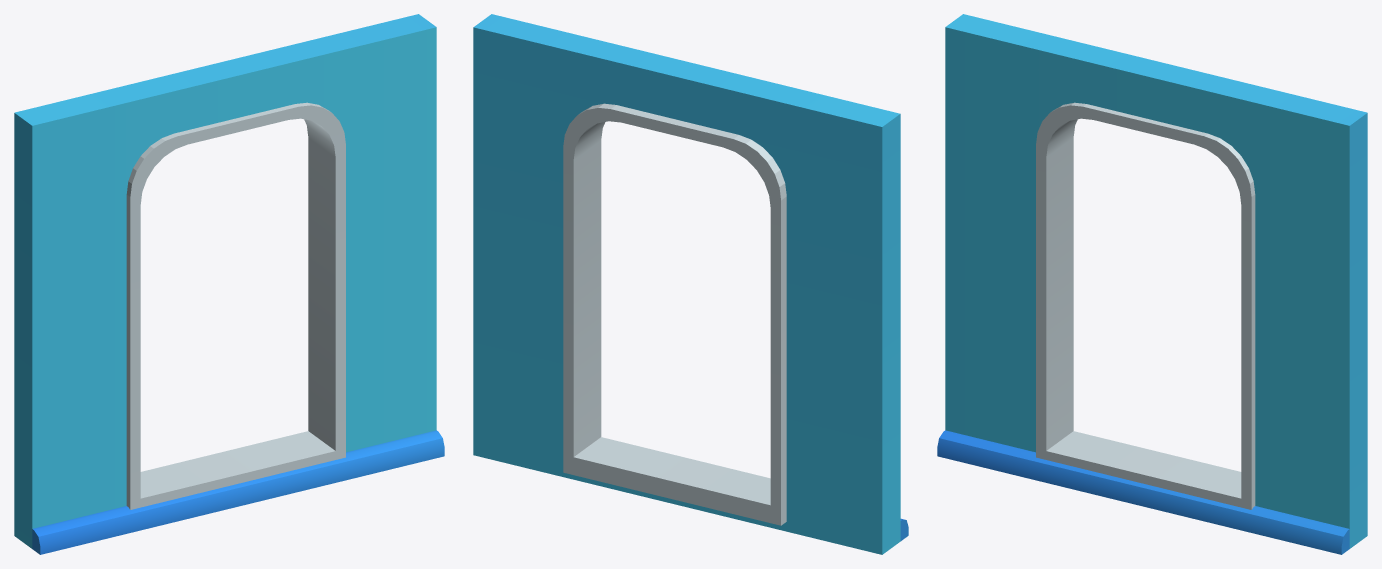
File: B_DoorWall003.fbx
3 views of the same model, side by side, from view 1: azimuth 30°, elevation 25°; view 2: azimuth 150°, elevation 25°; view 3: azimuth 330°, elevation 25° (orthographic).
Parts seen in each view (by area): view 1: DoorWall003; view 2: DoorWall003; view 3: DoorWall003.
Part boxes in pixels (bbox=[...]): DoorWall003: bbox=[14, 14, 444, 554]; DoorWall003: bbox=[473, 14, 908, 554]; DoorWall003: bbox=[937, 14, 1367, 554].
Bounding box in the file's own units: 250 × 250 × 33.87.
1 material, 1 textured.
